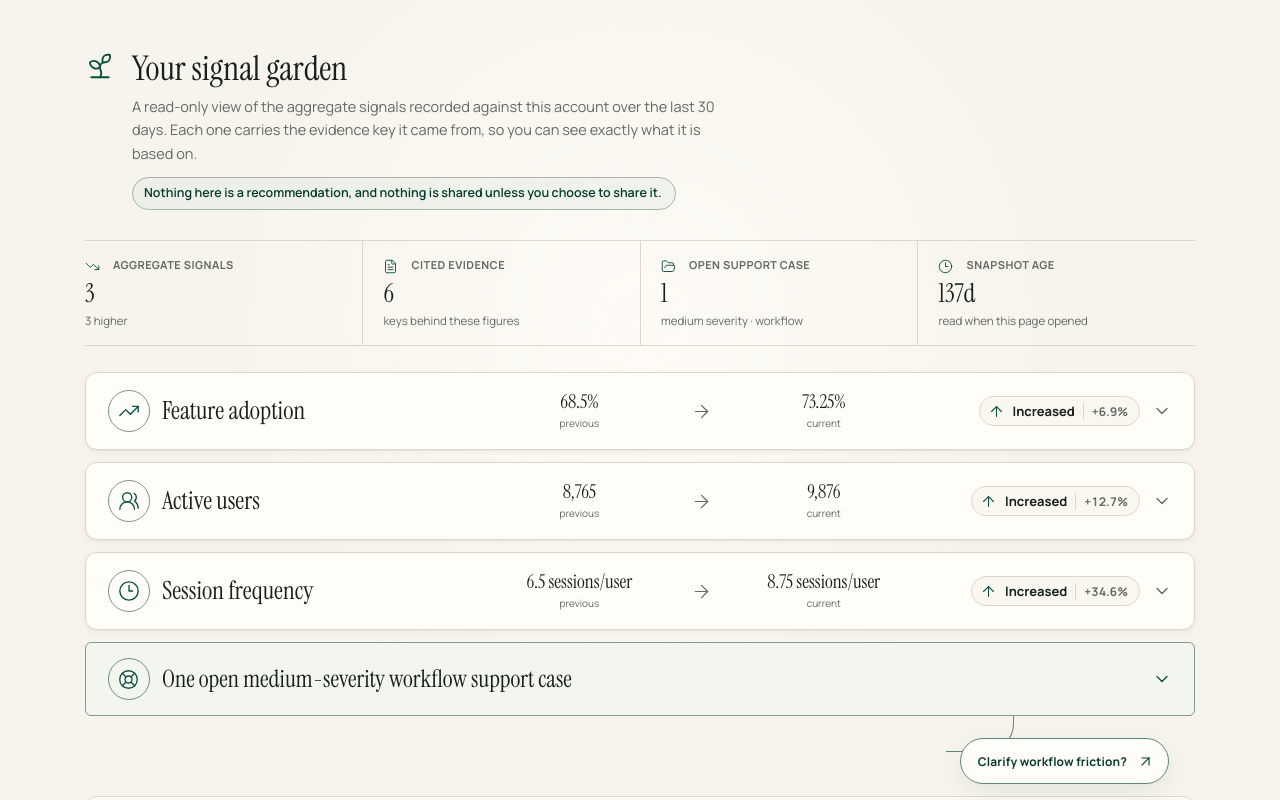
Test case: Signal Garden canvas › keeps a failed Share in the dialog with the draft intact and no acknowledgment
The image size is (1280, 800).
Click the button "Clarify workflow friction?" at [1064, 761], box [960,738,1169,784]
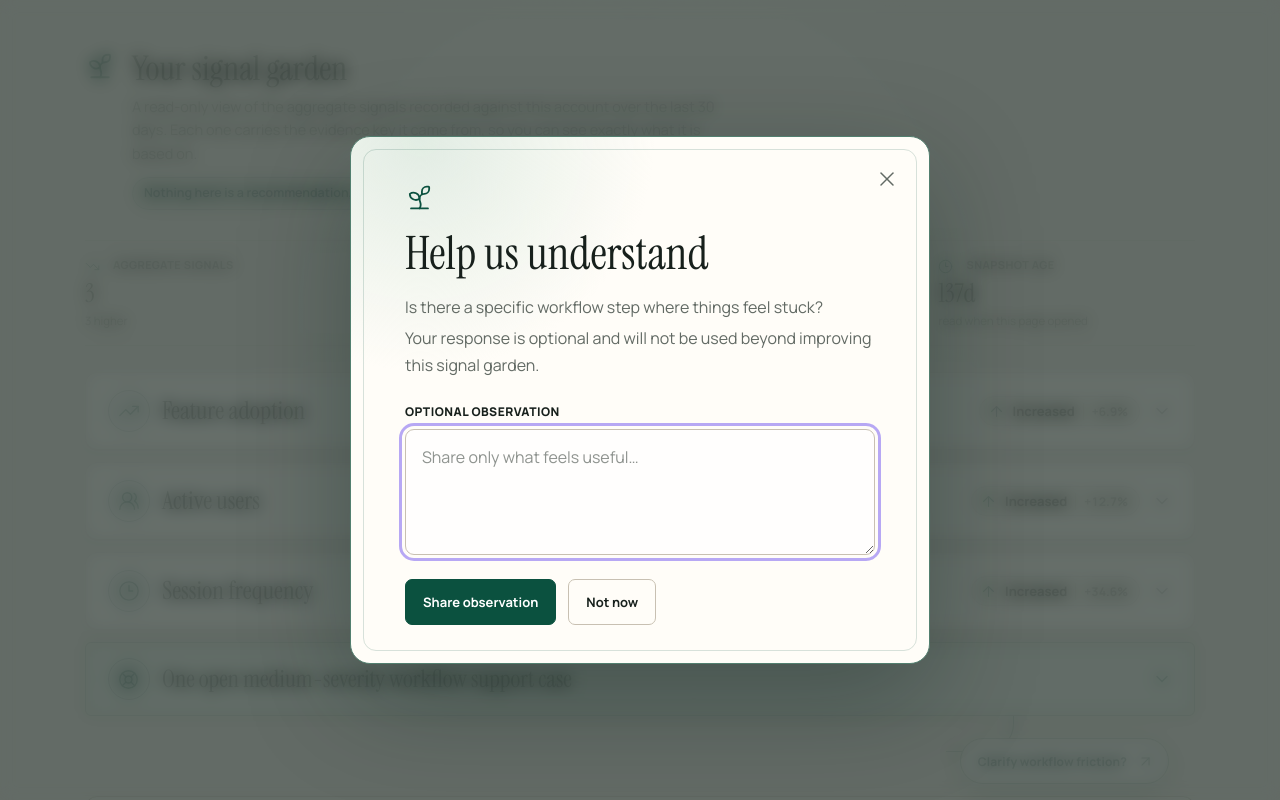
Type "The export step feels stuck." into the text box at [640, 492], box [405,429,875,555]
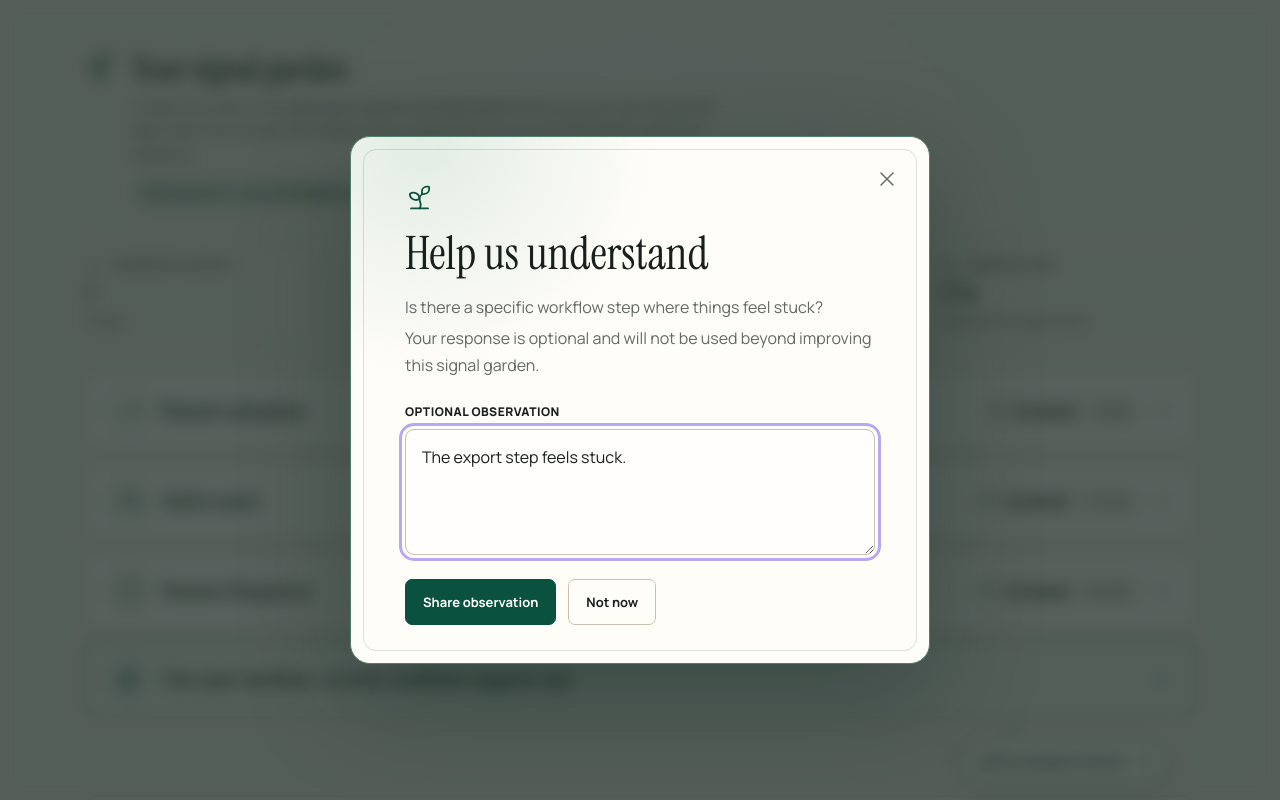
Click the button "Share observation" at [481, 602], box [405,579,556,625]
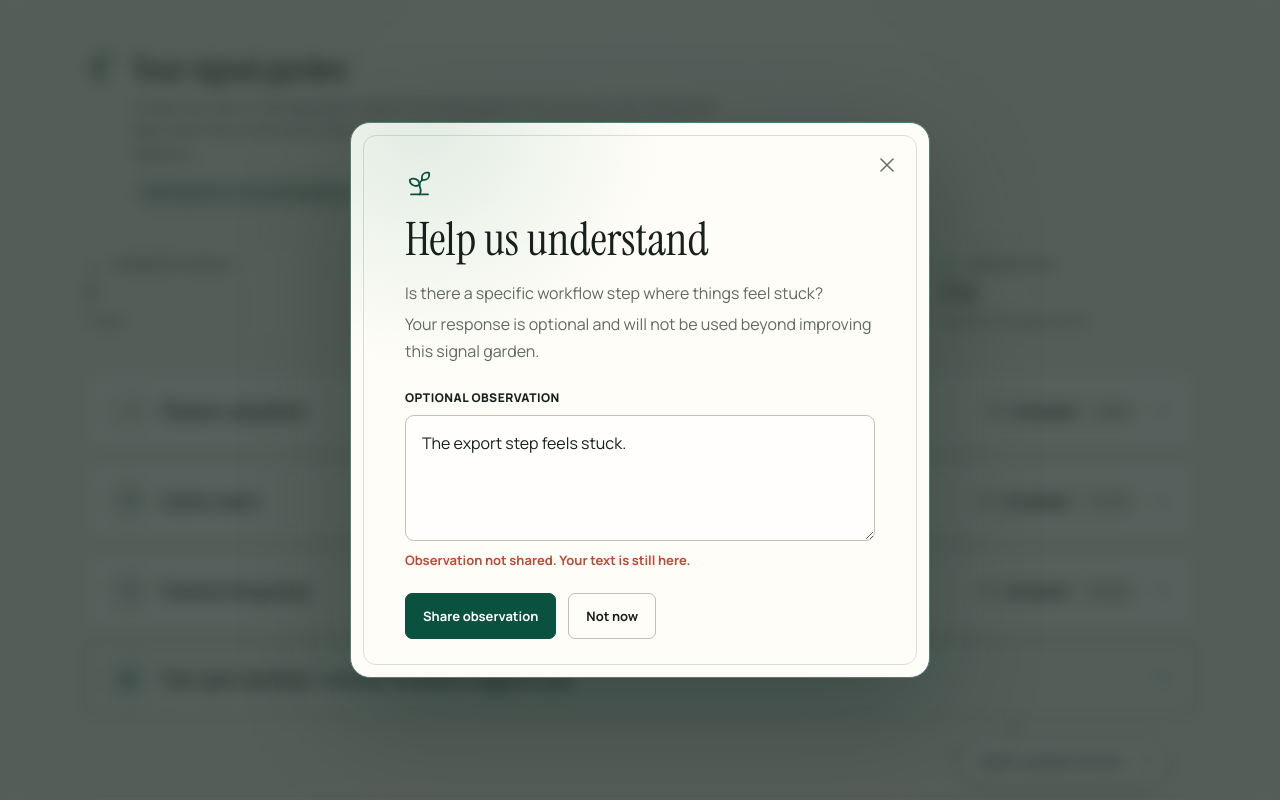
Expected: the message reads "Observation not shared. Your text is still here.", [405,551,690,569]
